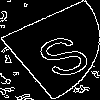S: (25, 24, 97, 81)
